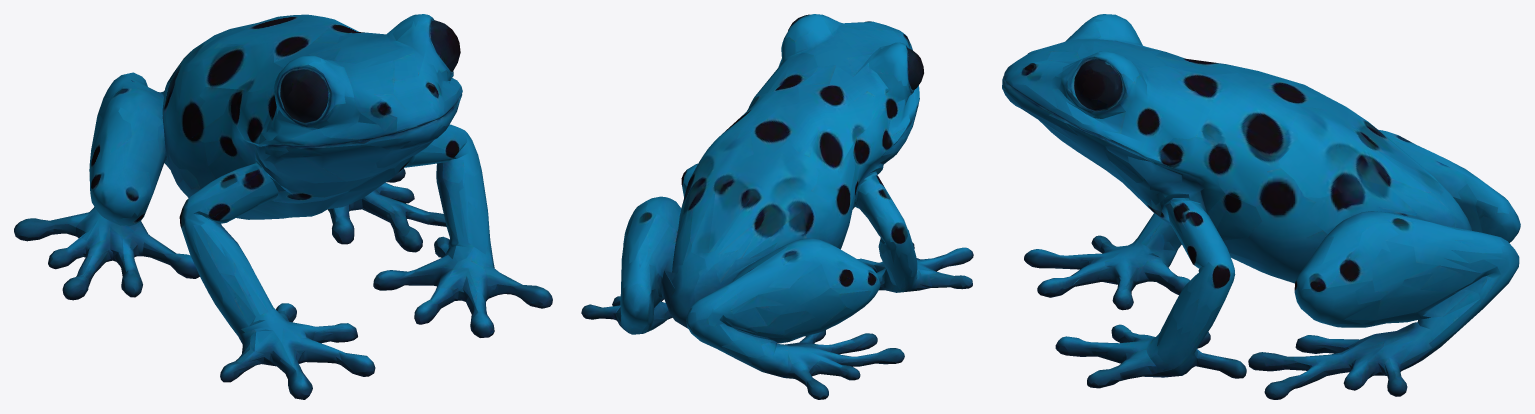
The model's file is animal_poison_dart_frog.glb.
3 views of the same model, side by side, from view 1: azimuth 30°, elevation 25°; view 2: azimuth 150°, elevation 25°; view 3: azimuth 270°, elevation 25° (orthographic). The views are drawn at different scales.
Size of the model in its own units: 1.49 by 1.14 by 1.9.
Materials: 1 (1 with a texture image).
